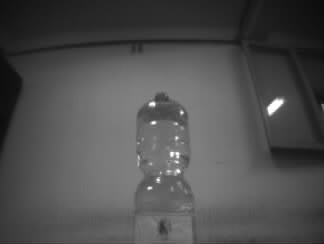Bottle: (131, 90, 197, 244)
